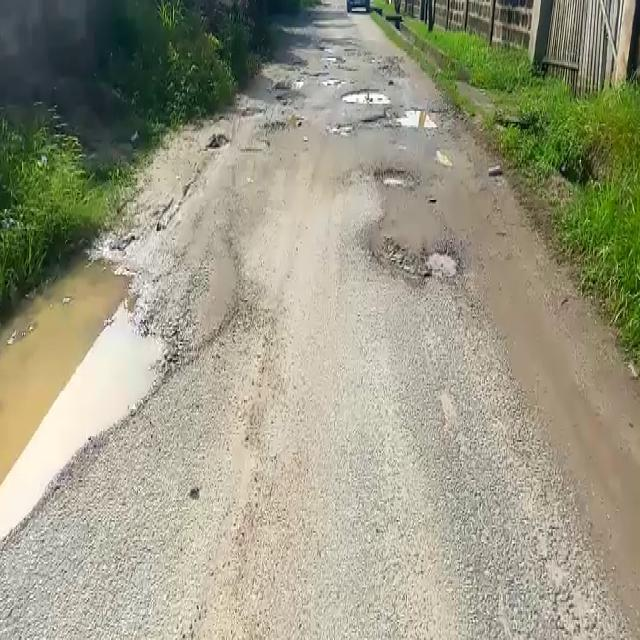pothole: (0, 254, 178, 561), (377, 240, 462, 285), (397, 106, 456, 129), (374, 164, 416, 188), (340, 87, 392, 106)
